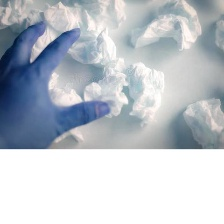tissue: (0, 0, 128, 72), (77, 52, 170, 132), (32, 64, 91, 145), (122, 0, 207, 55), (177, 91, 224, 149), (209, 7, 223, 56)
